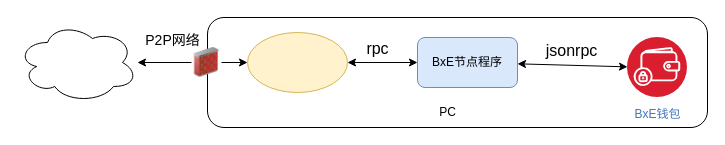
The diagram is 725 pixels wide and 145 high, and some of its shapes have lost their labels. Each missing label, with the box of its shape:
Bitcoin官方客户端 bitcoind: (246, 32, 348, 92)
互联网: (16, 22, 138, 102)
